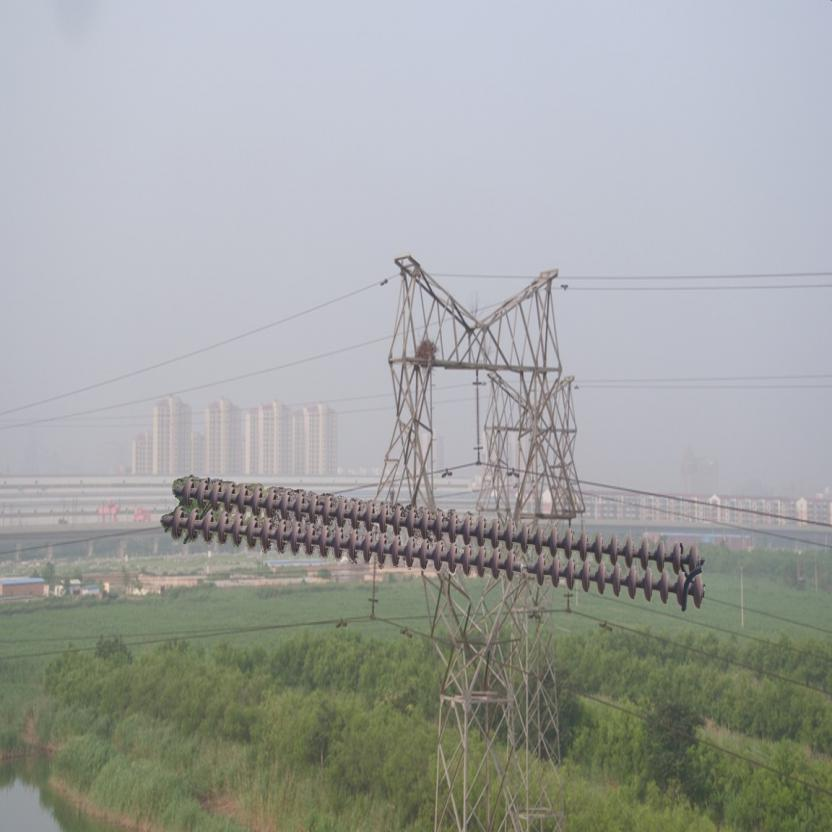defect: (499, 544, 551, 585)
